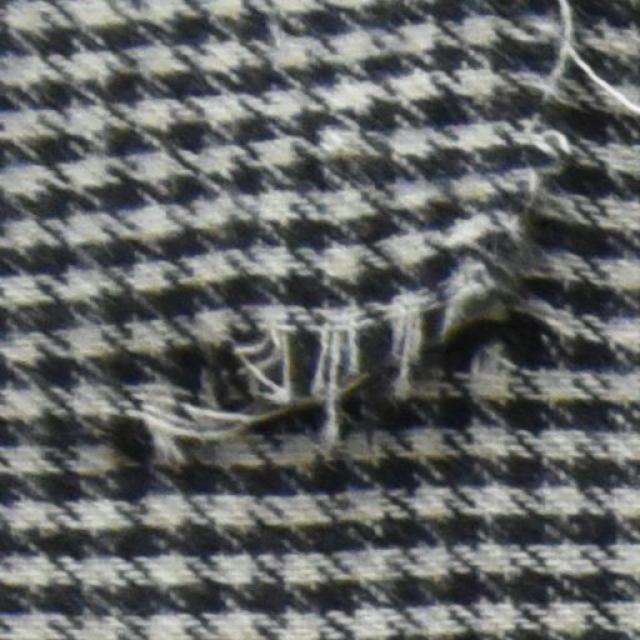Snag: (117, 0, 602, 467)
